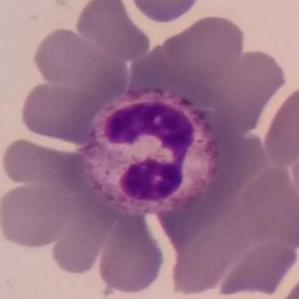Neutrophil: (79, 85, 221, 215)
RBC: (206, 47, 288, 135), (94, 209, 168, 297), (46, 196, 120, 278), (162, 12, 248, 81), (232, 162, 299, 250), (18, 78, 100, 146), (214, 235, 299, 299), (0, 180, 74, 251), (72, 0, 152, 61), (30, 25, 101, 86), (0, 135, 80, 188), (260, 81, 299, 168), (125, 0, 204, 25), (287, 125, 299, 217), (274, 261, 299, 299)
